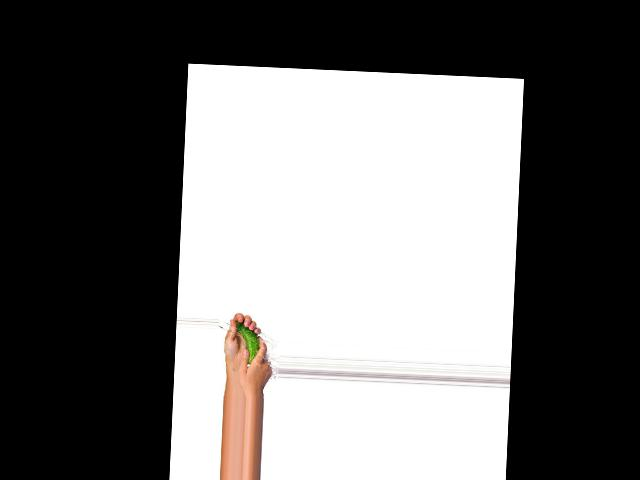cucumber: (234, 320, 261, 365)
